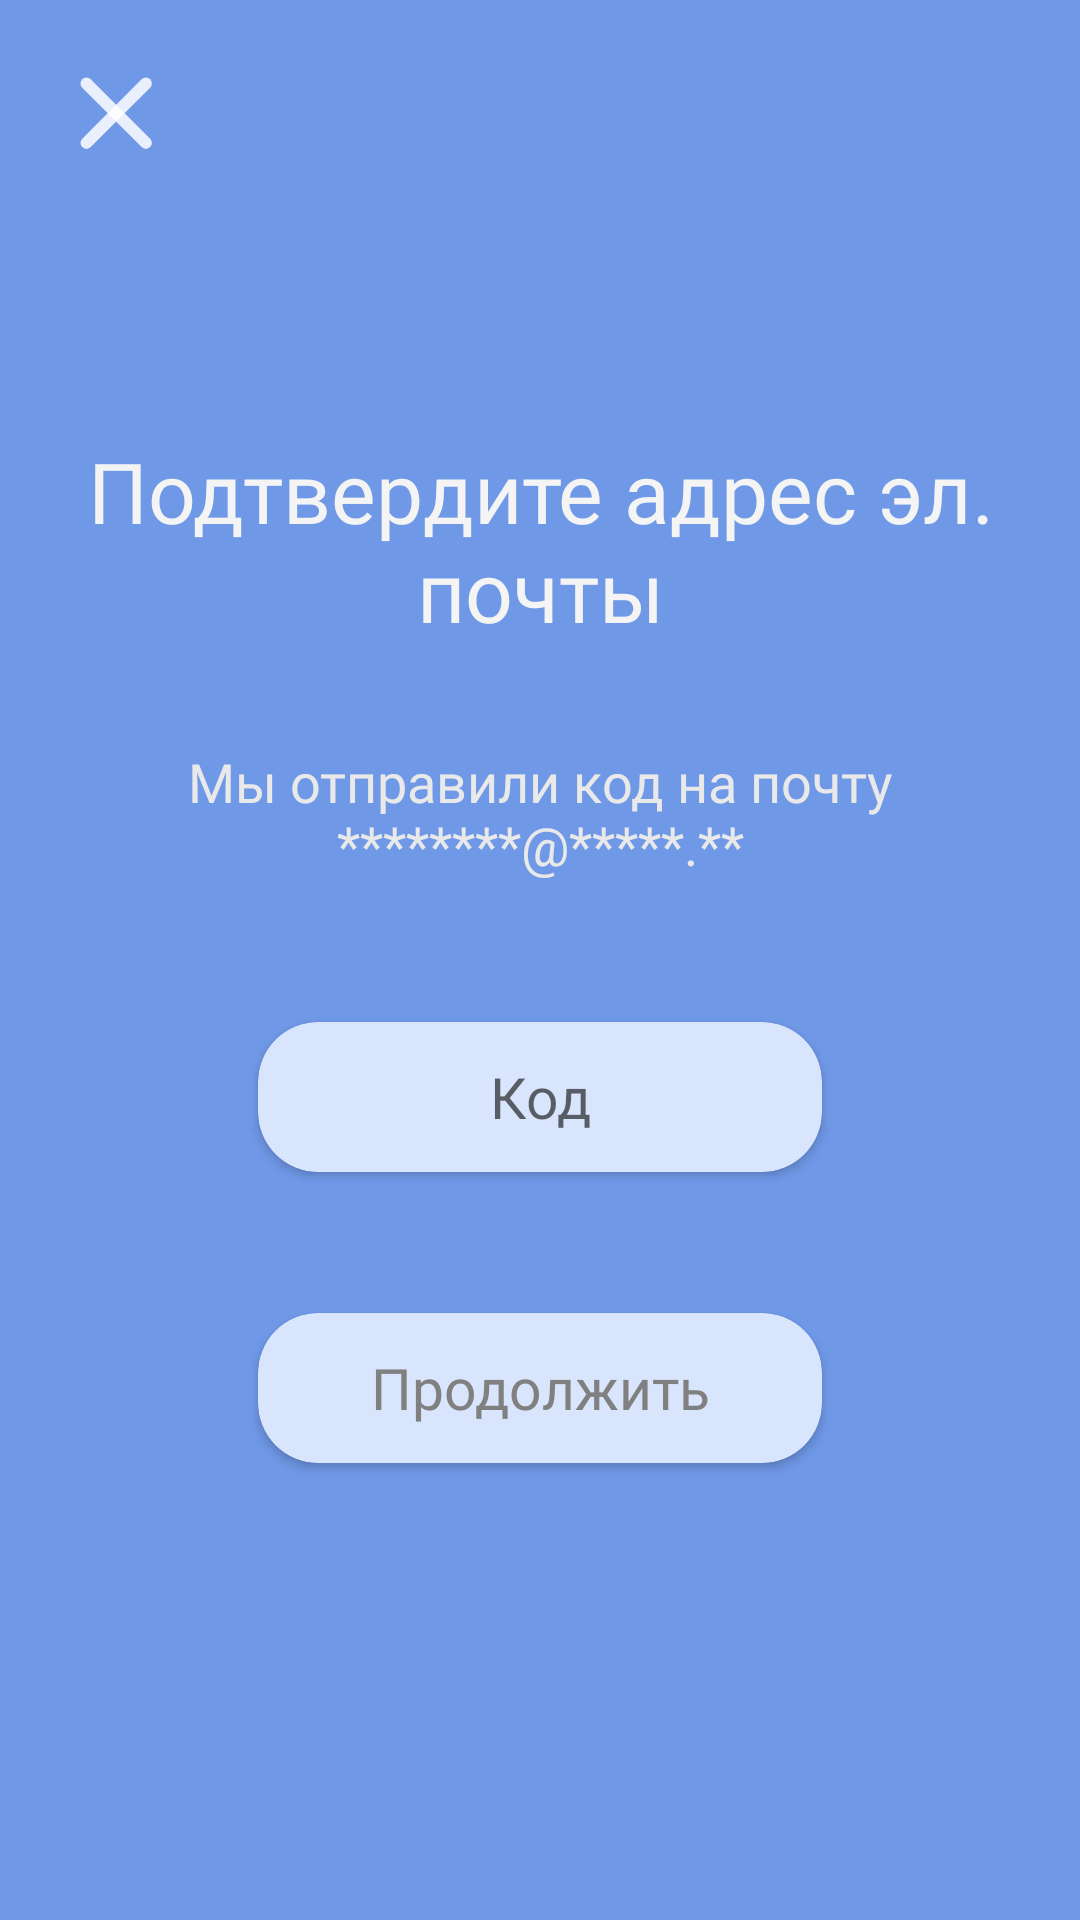

Where icons sit on this 1080*1920 app screen, as (x1, y1, x2, y2):
exitbutton: (80, 77, 152, 149)
